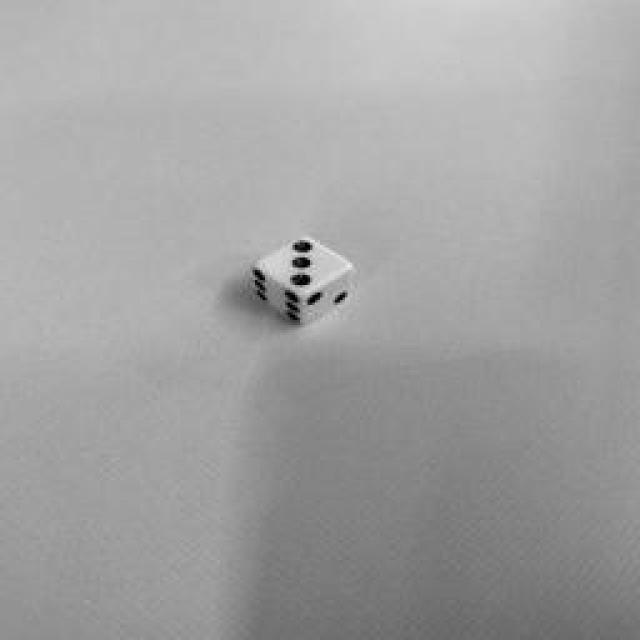dice_3: (255, 236, 350, 294)
